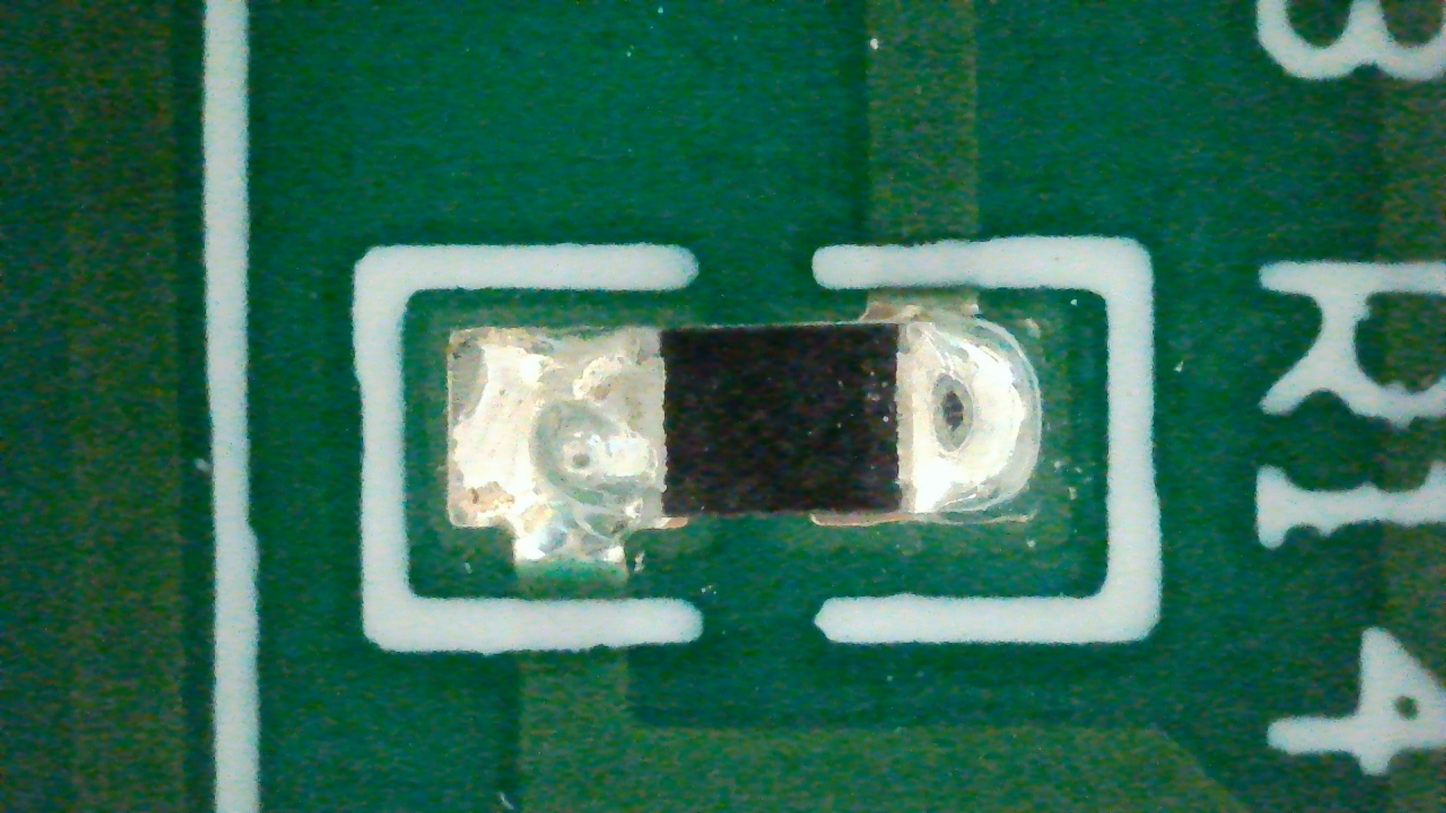OK: (448, 298, 1043, 565)
